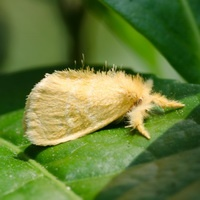insect: (24, 67, 183, 145)
